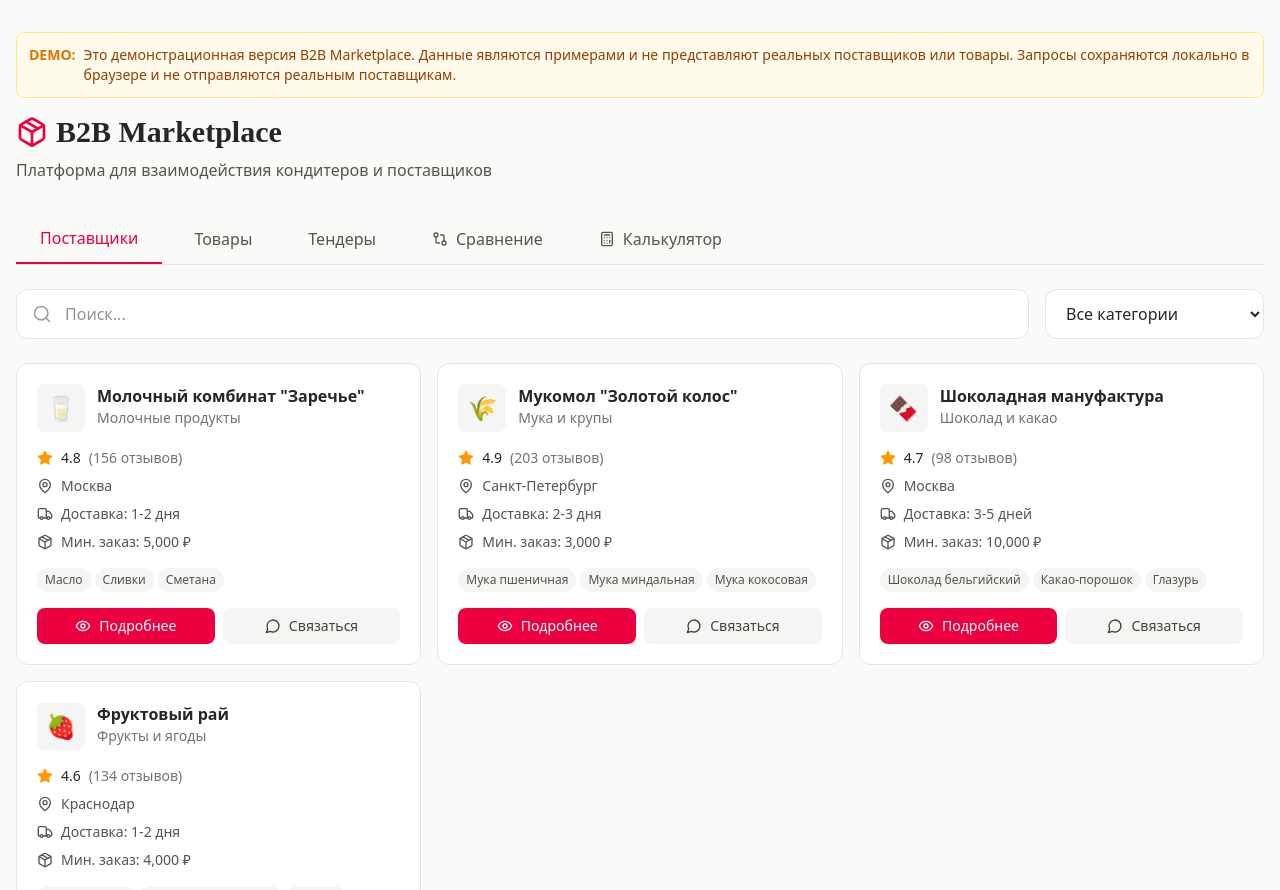
Scenario: B2B Marketplace V2 › Контактный запрос › должен валидировать обязательные поля
Click the button "Связаться" below "Масло" at (312, 626), box [223,608,400,644]
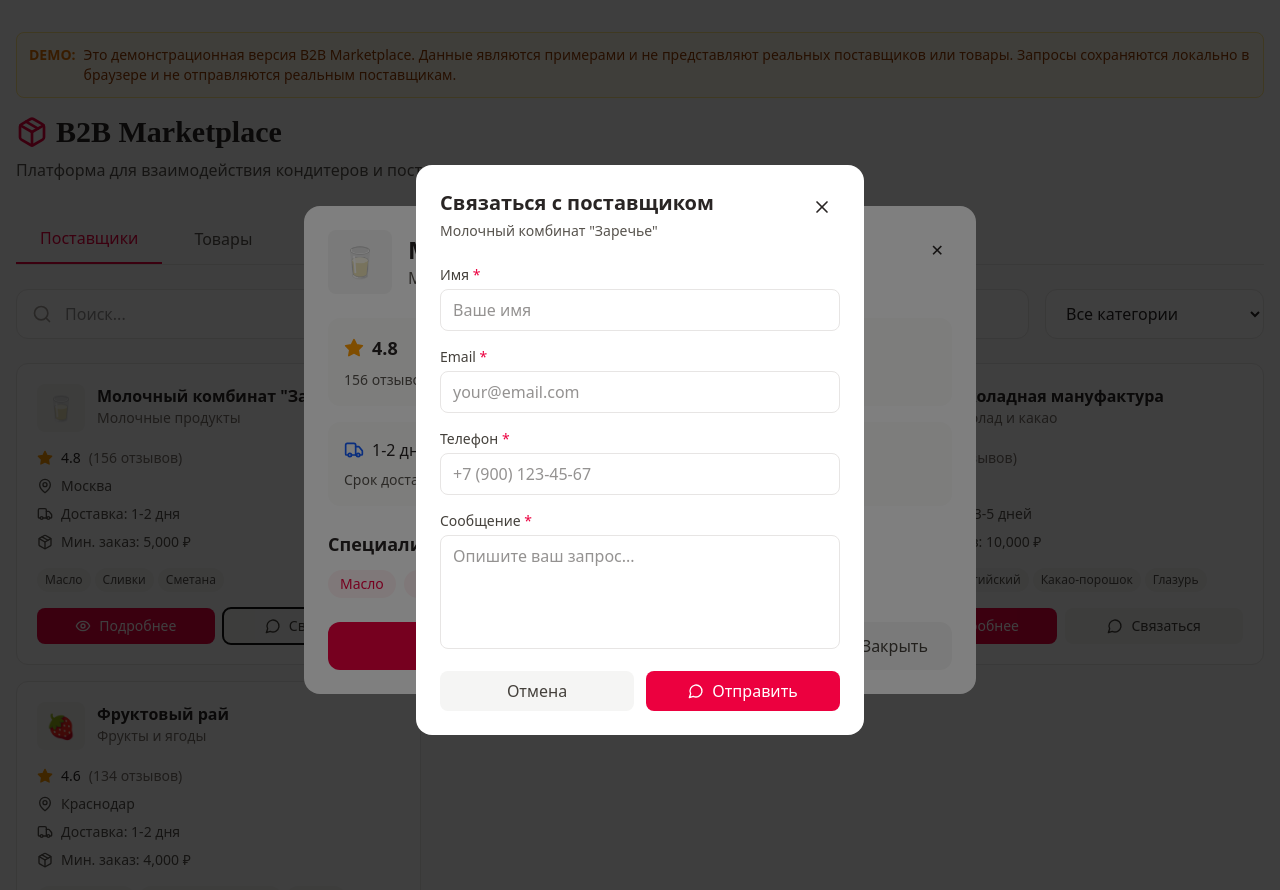
Click the button "Отправить" at (743, 691), box [646,671,840,711]
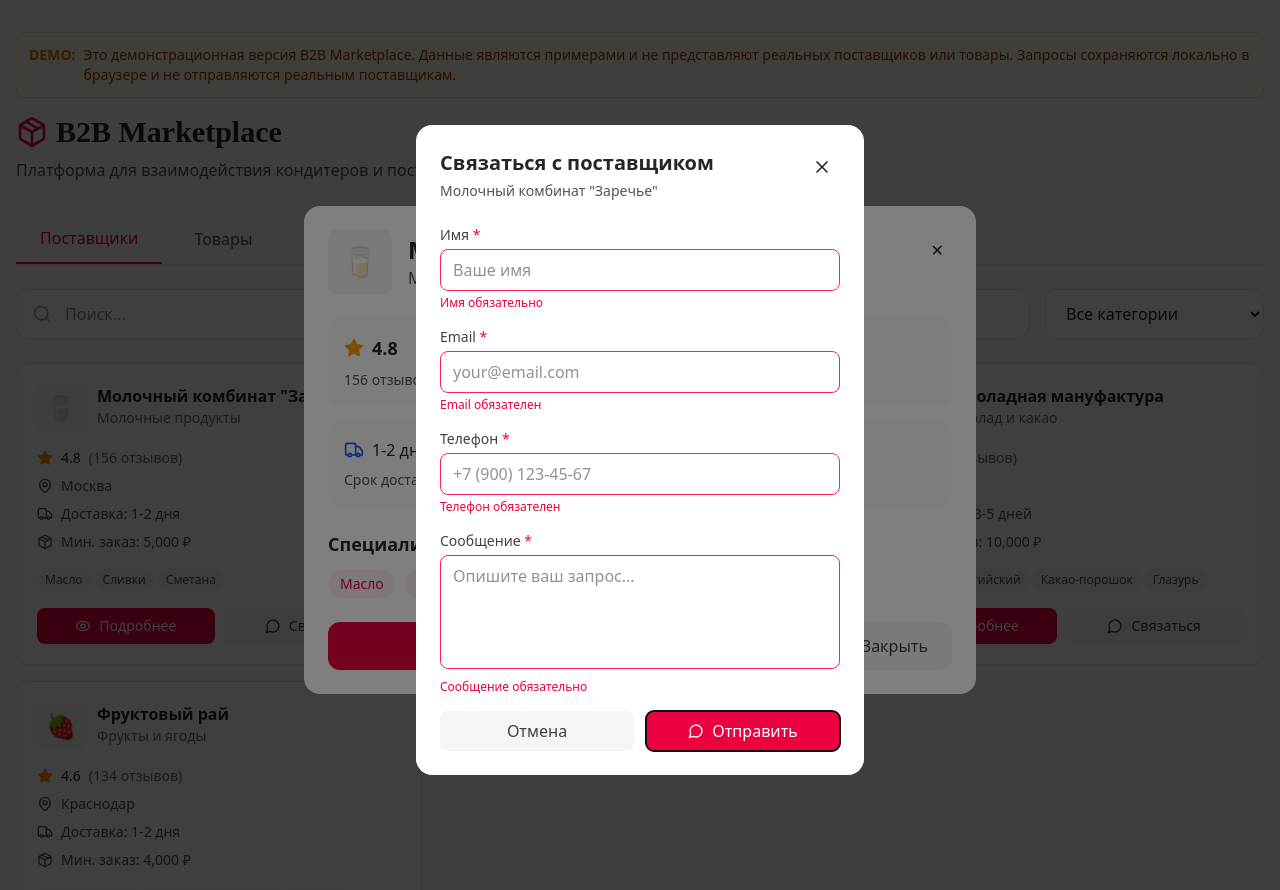
Now the text "Имя обязательно" is shown, box [440,294,543,311]
Now the text "Email обязателен" is shown, box [440,396,541,413]
Now the text "Телефон обязателен" is shown, box [440,498,560,515]
